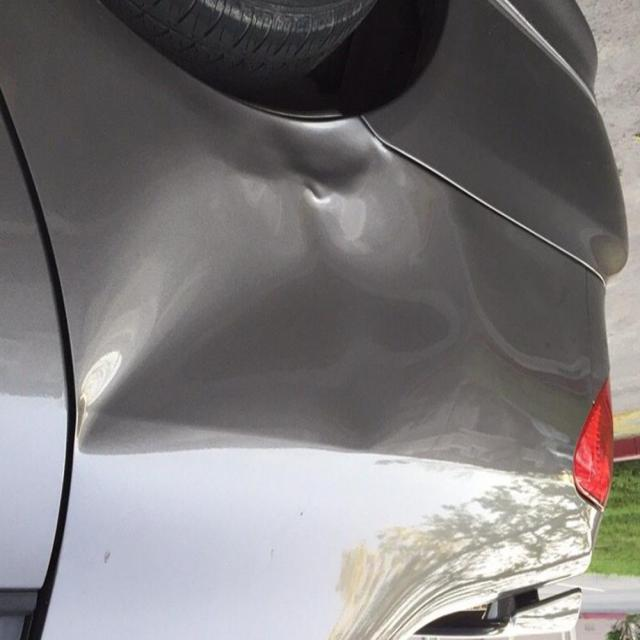dent: (75, 116, 418, 491)
